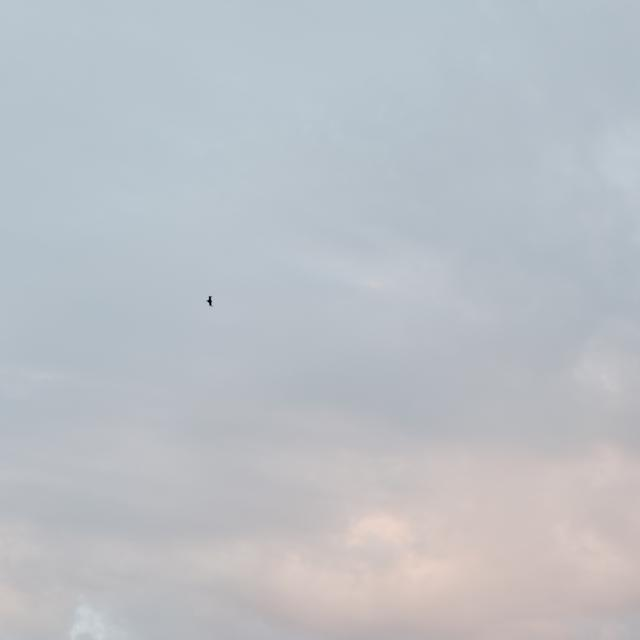Airaplan: (206, 296, 214, 307)
